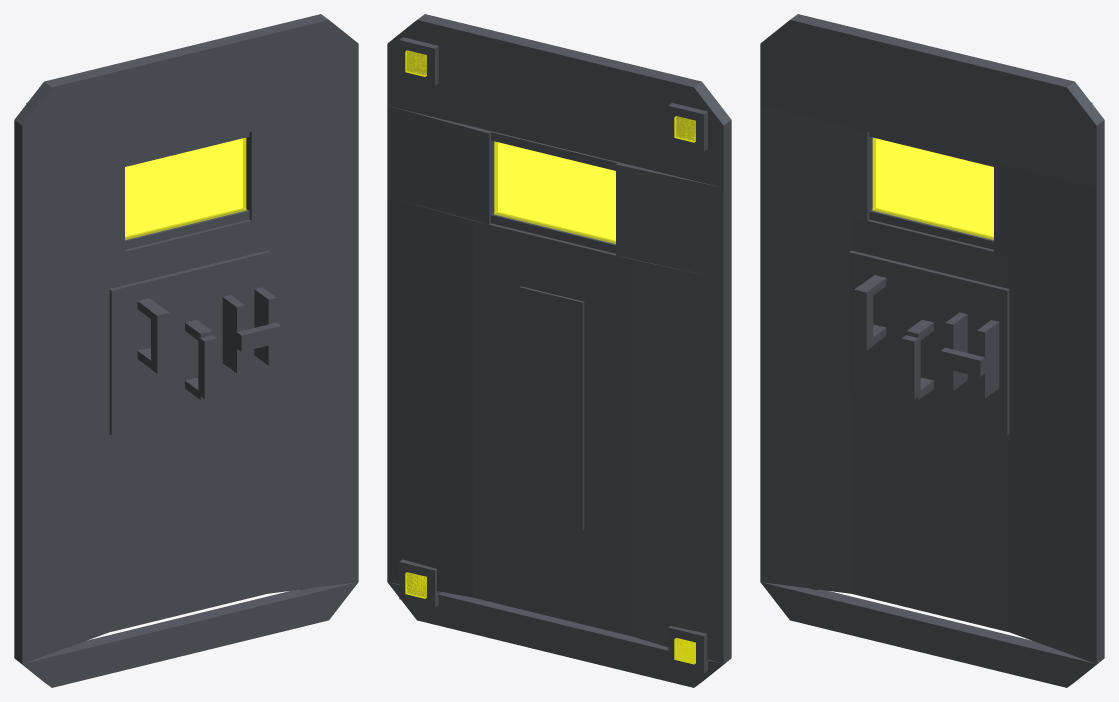
File: CHR_AI_BREACHER_SHIELD.glb
The picture shows the model from 3 angles, left to right: view 1: azimuth 30°, elevation 25°; view 2: azimuth 150°, elevation 25°; view 3: azimuth 330°, elevation 25°; orthographic projection.
Visible parts, largest first — view 1: SM_CHR_AI_BREACHER_SHIELD; view 2: SM_CHR_AI_BREACHER_SHIELD; view 3: SM_CHR_AI_BREACHER_SHIELD.
Part boxes in pixels (x1,y1,x2,y2): SM_CHR_AI_BREACHER_SHIELD: (14,14,358,687); SM_CHR_AI_BREACHER_SHIELD: (387,14,731,687); SM_CHR_AI_BREACHER_SHIELD: (760,14,1104,687).
Size of the model in its own units: 0.85 by 1.45 by 0.15.
